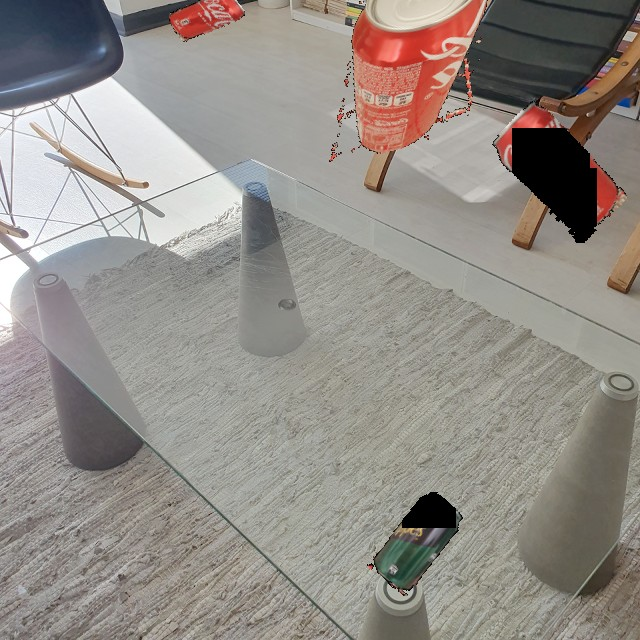coca cola: (328, 0, 502, 166), (479, 84, 637, 259), (169, 0, 245, 42)
schweppes: (362, 492, 471, 596)
